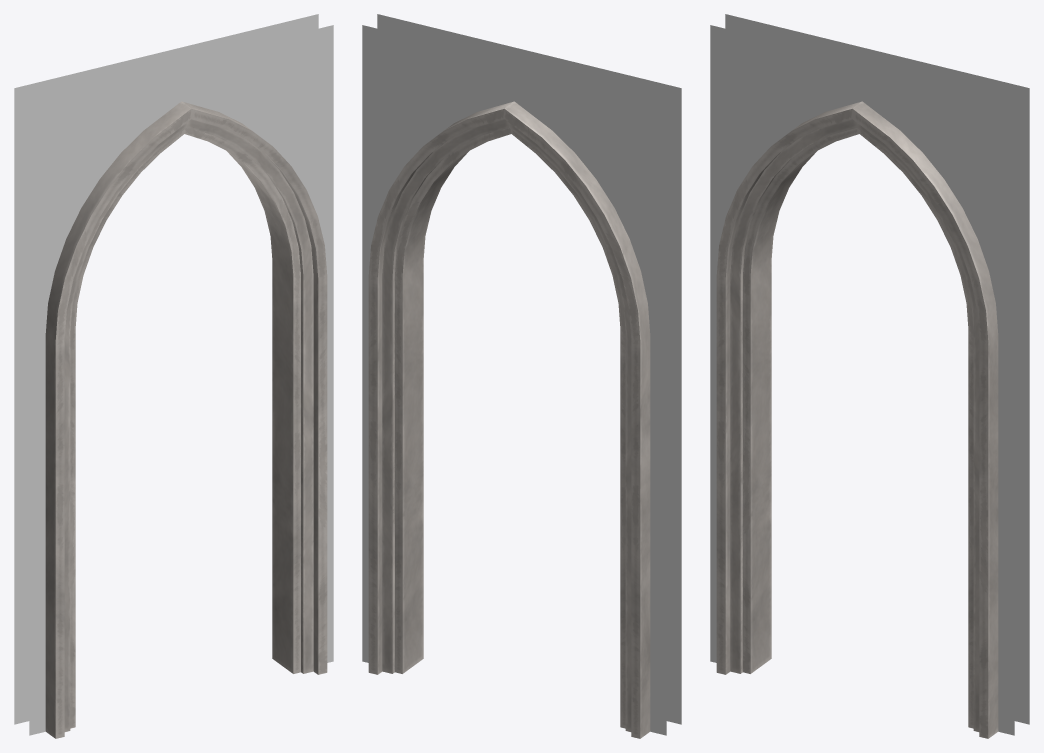
The model's file is Wall_Door_H.fbx.
3 renders of one model, left to right at view 1: azimuth 30°, elevation 25°; view 2: azimuth 150°, elevation 25°; view 3: azimuth 330°, elevation 25°, orthographic.
Parts seen in each view (by area): view 1: Wall_Door_H; view 2: Wall_Door_H; view 3: Wall_Door_H.
Boxes of the visible parts, x1,y1,x2,y2 form: Wall_Door_H: [14, 14, 333, 738]; Wall_Door_H: [362, 14, 681, 738]; Wall_Door_H: [710, 14, 1029, 738].
Size of the model in its own units: 3 by 0.5967 by 6.
